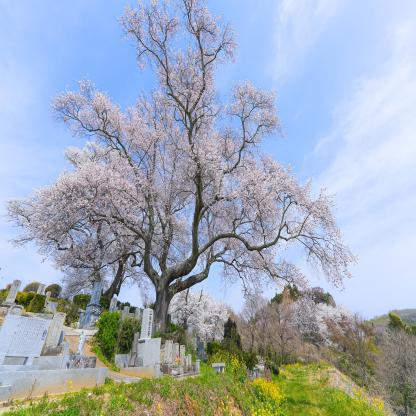EdohiganSakura: (1, 0, 359, 334)
